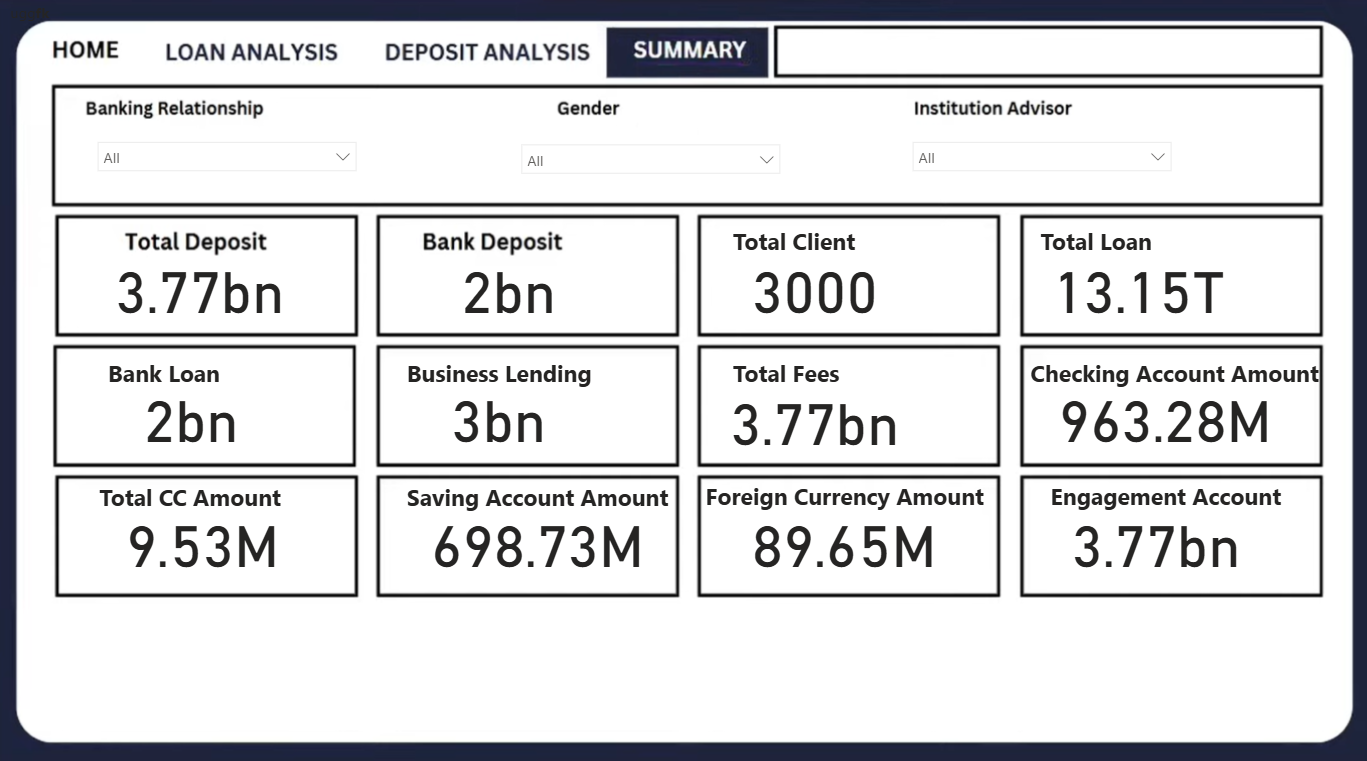

The dashboard page shown, as its layout file describes it:
{"tool":"powerbi","page":{"name":"Page 2","canvas":[1280,720],"ordinal":3},"visuals":[{"type":"textbox","box":[10,0,71.2,52.5],"z":0},{"type":"textbox","box":[682.5,207.5,141.2,42.5],"z":1},{"type":"textbox","box":[968.8,207.5,192.5,42.5],"z":2},{"type":"textbox","box":[958.8,330,291.2,42.5],"z":3},{"type":"textbox","box":[682.5,330,192.5,42.5],"z":4},{"type":"textbox","box":[378.8,330,192.5,42.5],"z":5},{"type":"textbox","box":[101.2,330,192.5,42.5],"z":6},{"type":"textbox","box":[92.5,445,192.5,42.5],"z":7},{"type":"textbox","box":[378.8,445,261.2,42.5],"z":8},{"type":"textbox","box":[81.2,563.8,192.5,42.5],"z":9},{"type":"textbox","box":[977.5,443.8,251.2,42.5],"z":10},{"type":"textbox","box":[673.8,563.8,192.5,42.5],"z":11},{"type":"textbox","box":[657.5,443.8,282.5,42.5],"z":12},{"type":"textbox","box":[388.8,563.8,192.5,42.5],"z":13},{"type":"textbox","box":[968.8,563.8,192.5,42.5],"z":14},{"type":"textbox","box":[46.2,563.8,1192.5,118.8],"z":15},{"type":"card","fields":{"Values":["Sum(Banking (1).Total Deposit)"]},"box":[101.2,250,181.2,58.8],"z":16},{"type":"card","fields":{"Values":["Sum(Banking (1).Bank Loans)"]},"box":[92.5,370,181.2,58.8],"z":17},{"type":"card","fields":{"Values":["Sum(Banking (1).Credit Card Balance)"]},"box":[103.8,486.2,181.2,58.8],"z":18},{"type":"card","fields":{"Values":["Sum(Banking (1).Saving Accounts)"]},"box":[400,486.2,211.2,58.8],"z":19},{"type":"card","fields":{"Values":["Sum(Banking (1).Bank Deposits)"]},"box":[388.8,250,181.2,58.8],"z":20},{"type":"card","fields":{"Values":["Sum(Banking (1).Foreign Currency Account)"]},"box":[678.8,486.2,223.8,58.8],"z":21},{"type":"card","fields":{"Values":["Sum(Banking (1).Total Deposit)"]},"box":[673.8,372.5,181.2,58.8],"z":22},{"type":"card","fields":{"Values":["CountNonNull(Banking (1).Client ID)"]},"box":[673.8,250,181.2,58.8],"z":23},{"type":"card","fields":{"Values":["Sum(Banking (1).Business Lending)"]},"box":[378.8,370,181.2,58.8],"z":24},{"type":"card","fields":{"Values":["Sum(Banking (1).Checking Accounts)"]},"box":[980,370,218.8,58.8],"z":25},{"type":"card","fields":{"Values":["Sum(Banking (1).Total Deposit)"]},"box":[991.2,486.2,181.2,58.8],"z":26},{"type":"card","fields":{"Values":["Sum(Banking (1).Total Loan)"]},"box":[975,250,181.2,58.8],"z":27},{"type":"slicer","fields":{"Values":["Banking (1).BRId"]},"box":[86.2,125,261.2,48.8],"z":28},{"type":"slicer","fields":{"Values":["Banking (1).BRId"]},"box":[843.8,125,261.2,48.8],"z":29},{"type":"slicer","fields":{"Values":["Banking (1).GenderId"]},"box":[480,126.2,261.2,48.8],"z":30},{"type":"actionButton","box":[36.2,32.5,100,40],"z":31}]}

Visuals, with their boxes in screenshot pixels (x1, y1, x2, y2), scaled from the page's 1280x720 canvas onto the 1367x761 screenshot:
textbox: 11/0/87/55
textbox: 729/219/880/264
textbox: 1035/219/1240/264
textbox: 1024/349/1335/394
textbox: 729/349/934/394
textbox: 405/349/610/394
textbox: 108/349/314/394
textbox: 99/470/304/515
textbox: 405/470/684/515
textbox: 87/596/292/641
textbox: 1044/469/1312/514
textbox: 720/596/925/641
textbox: 702/469/1004/514
textbox: 415/596/621/641
textbox: 1035/596/1240/641
textbox: 49/596/1323/721
card - Sum(Banking (1).Total Deposit): 108/264/302/326
card - Sum(Banking (1).Bank Loans): 99/391/292/453
card - Sum(Banking (1).Credit Card Balance): 111/514/304/576
card - Sum(Banking (1).Saving Accounts): 427/514/653/576
card - Sum(Banking (1).Bank Deposits): 415/264/609/326
card - Sum(Banking (1).Foreign Currency Account): 725/514/964/576
card - Sum(Banking (1).Total Deposit): 720/394/913/456
card - CountNonNull(Banking (1).Client ID): 720/264/913/326
card - Sum(Banking (1).Business Lending): 405/391/598/453
card - Sum(Banking (1).Checking Accounts): 1047/391/1280/453
card - Sum(Banking (1).Total Deposit): 1059/514/1252/576
card - Sum(Banking (1).Total Loan): 1041/264/1235/326
slicer - Banking (1).BRId: 92/132/371/184
slicer - Banking (1).BRId: 901/132/1180/184
slicer - Banking (1).GenderId: 513/133/792/185
actionButton: 39/34/145/77
